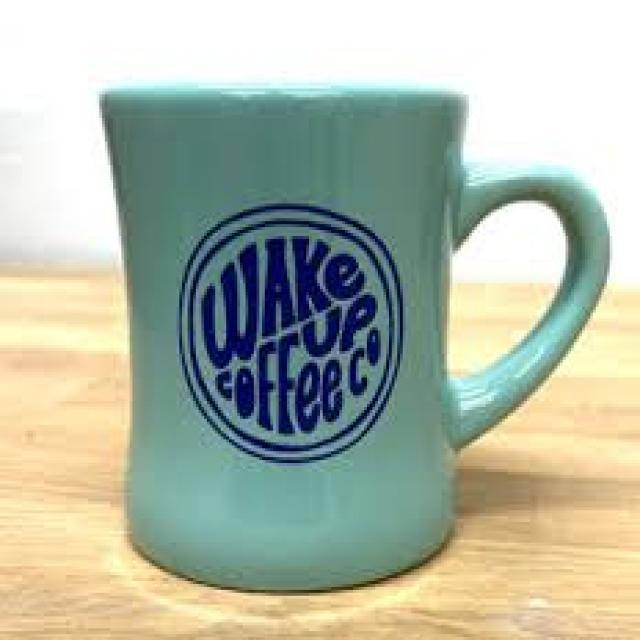taza: (97, 81, 613, 594)
